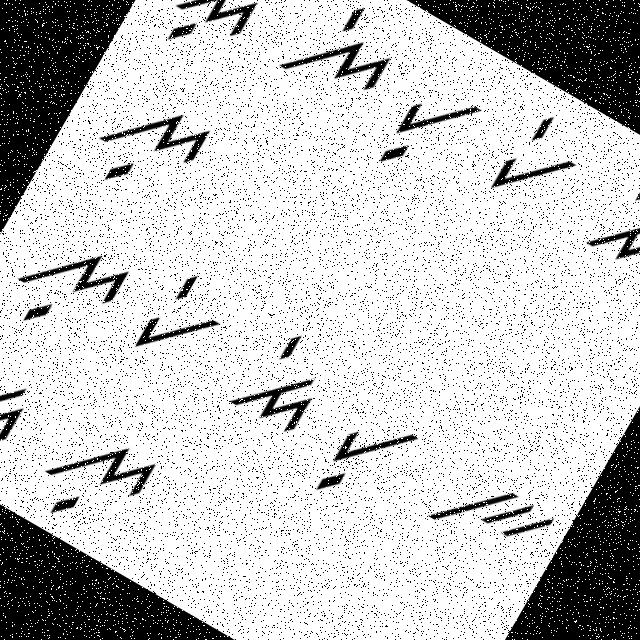de: (207, 304, 351, 454), (576, 154, 639, 293)
du: (144, 0, 286, 83), (0, 341, 49, 484)
ne: (268, 0, 416, 124)
nu: (76, 69, 228, 220), (20, 407, 168, 554), (0, 210, 142, 363)
pe: (473, 98, 599, 226), (122, 255, 245, 382)
pu: (296, 383, 428, 524), (365, 60, 489, 196)
